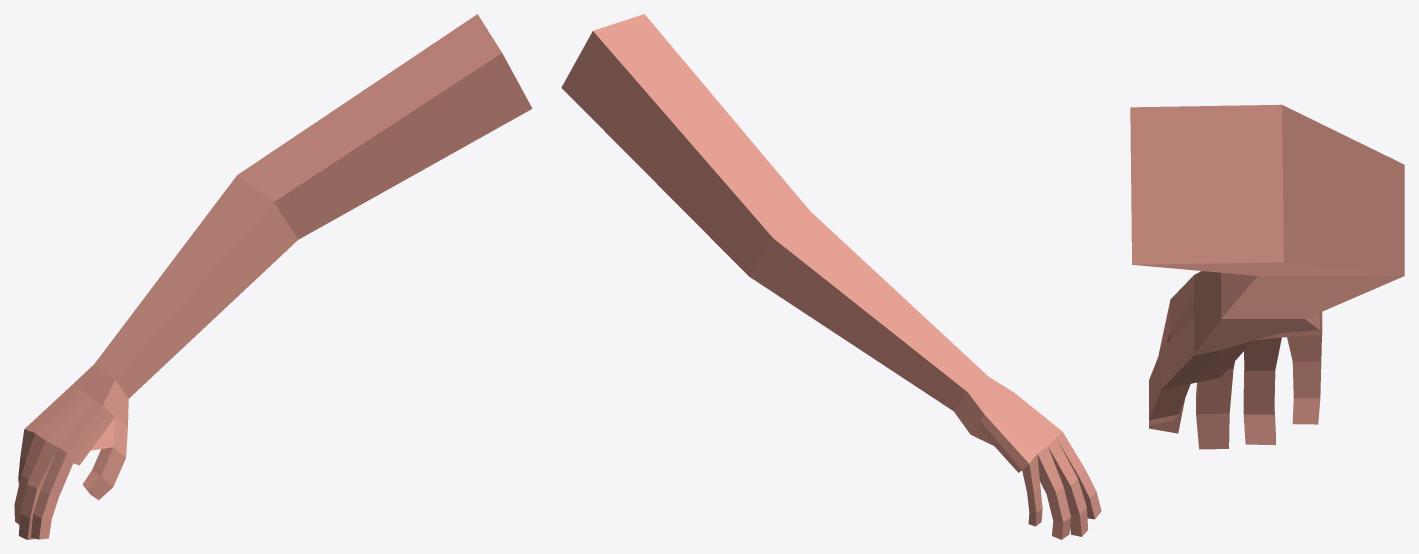
File: right_hand.fbx
The picture shows the model from 3 angles, left to right: view 1: azimuth 30°, elevation 25°; view 2: azimuth 150°, elevation 25°; view 3: azimuth 270°, elevation 25°; orthographic projection. The views are drawn at different scales.
Visible parts, largest first — view 1: Cube; view 2: Cube; view 3: Cube.
Part boxes in pixels (box(x1,y1,x2,y2)): Cube: box(14, 14, 532, 539); Cube: box(561, 14, 1101, 539); Cube: box(1130, 104, 1404, 449).
Size of the model in its own units: 64.42 by 48.6 by 15.2.
